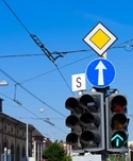green_light: (107, 95, 128, 152)
